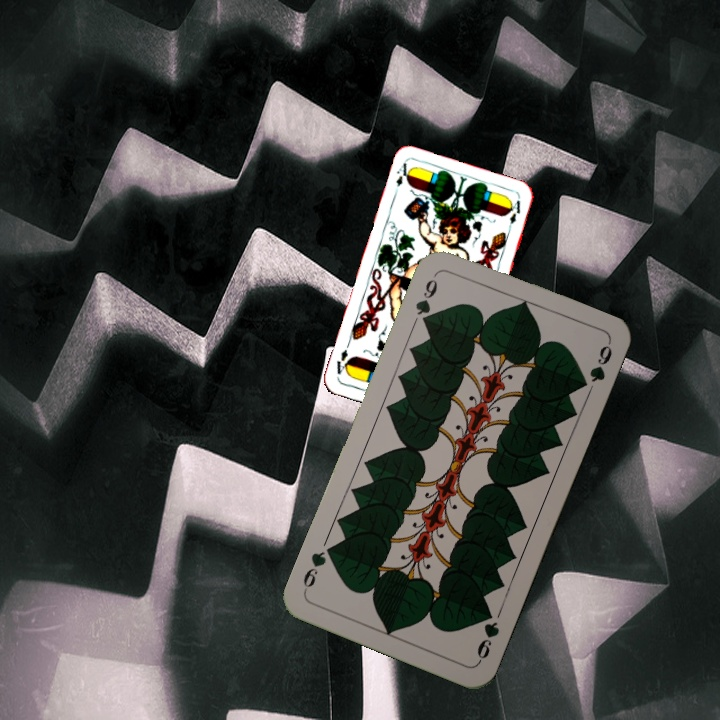EA: (390, 159, 414, 199)
G9: (473, 605, 502, 665), (411, 275, 441, 329)
